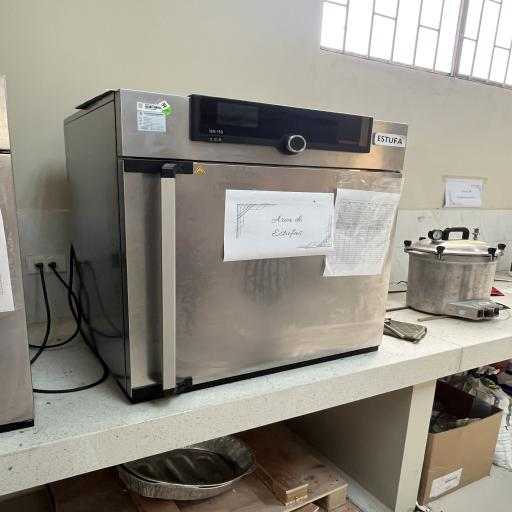Estufa_Memmert: (47, 80, 419, 408)
